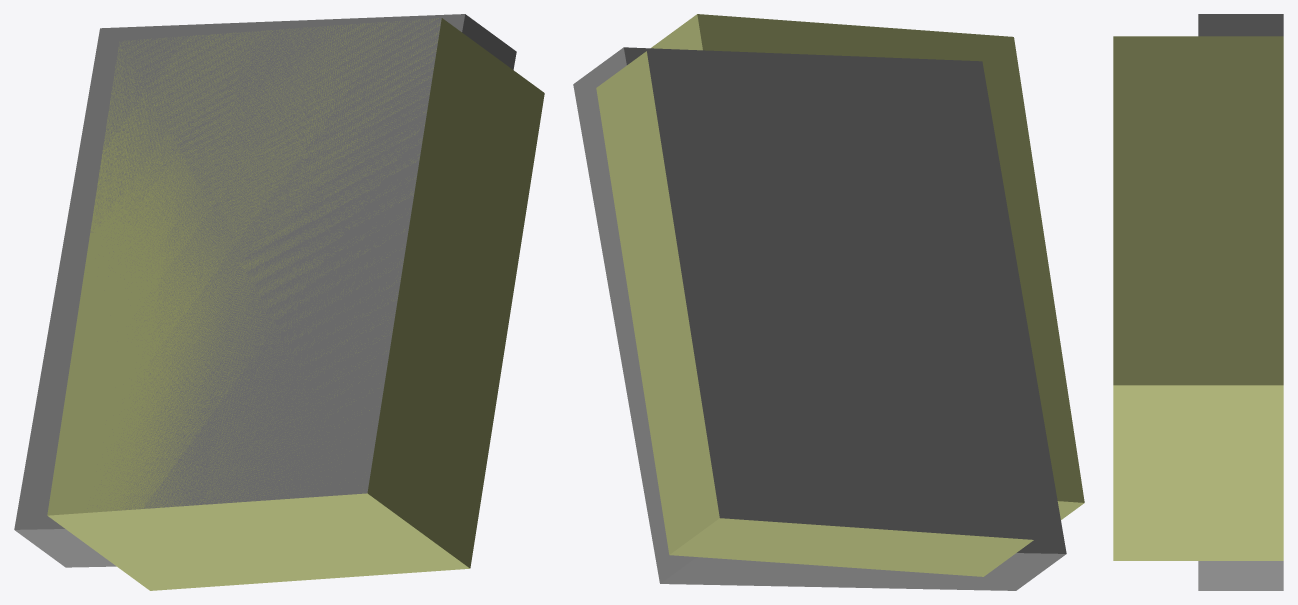
3 renders of one model, left to right at view 1: azimuth 30°, elevation 25°; view 2: azimuth 150°, elevation 25°; view 3: azimuth 270°, elevation 25°, orthographic. The views are drawn at different scales.
Parts seen in each view (by area): view 1: 0_3_2_3_1_2_1_1_0_1; view 2: 0_3_2_3_1_2_1_1_0_1; view 3: 0_3_2_3_1_2_1_1_0_1.
Part boxes in pixels (<box>): 0_3_2_3_1_2_1_1_0_1: <box>14,14,544,590</box>; 0_3_2_3_1_2_1_1_0_1: <box>573,14,1084,590</box>; 0_3_2_3_1_2_1_1_0_1: <box>1113,14,1283,590</box>.
Size of the model in its own units: 15.18 by 18.08 by 6.
